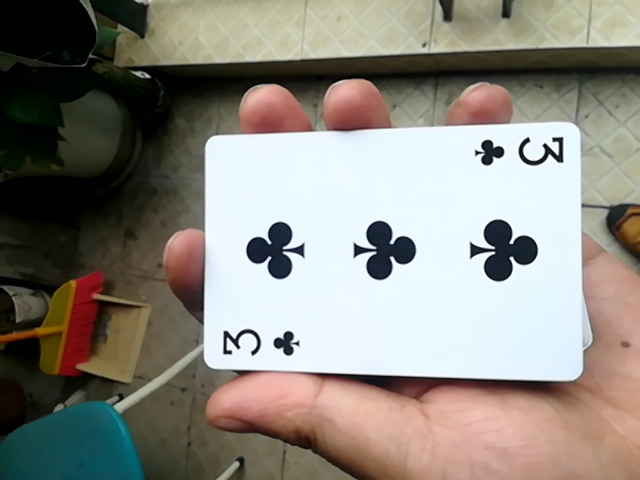mh 3: (183, 122, 585, 390)
